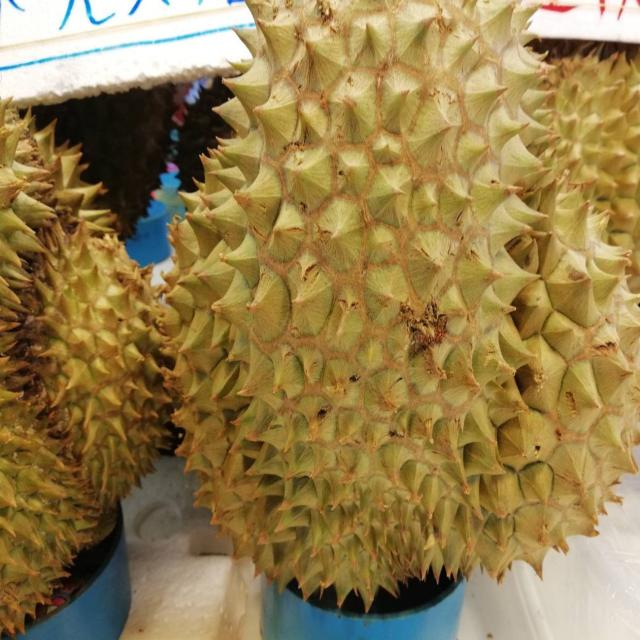mature: (168, 1, 632, 604)
